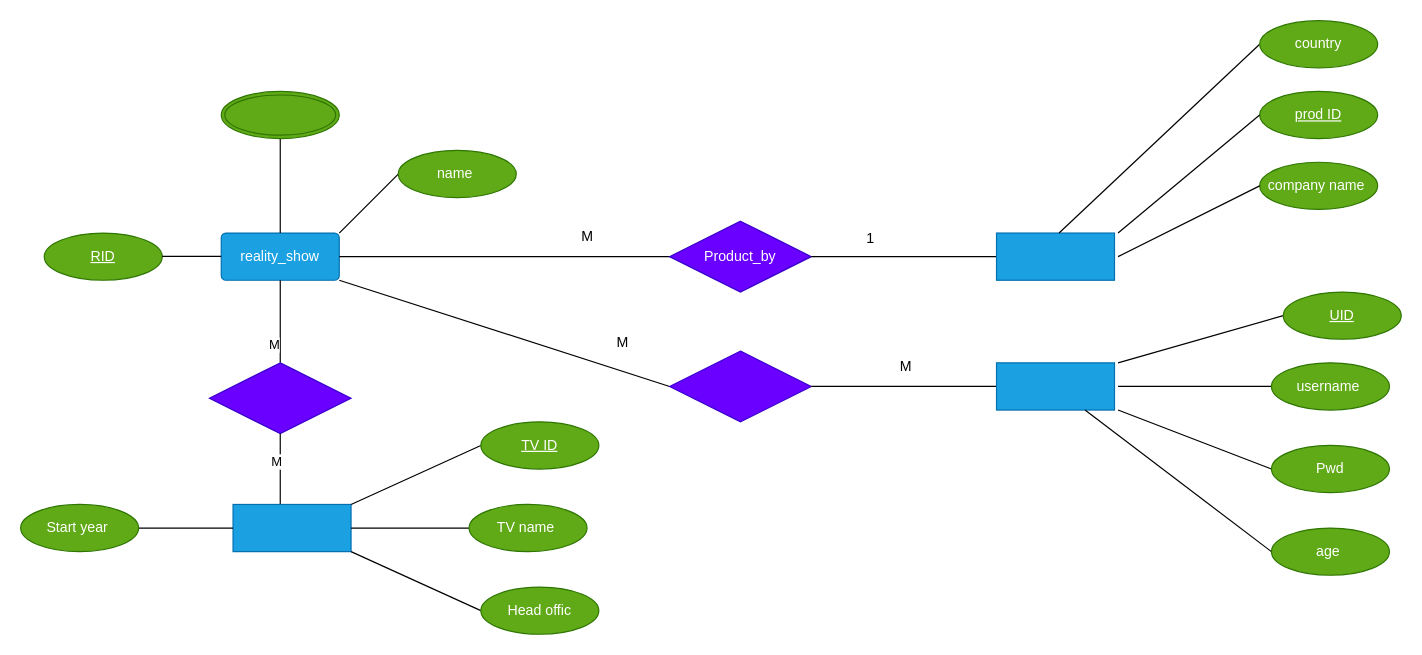
Some shapes in this 1422 by 655 pixel diagram are drawn without their labels. Each missing label, with the box of its shape:
participants: (220, 90, 339, 139)
Producer: (995, 232, 1115, 280)
rated_by: (668, 350, 811, 422)
realityshow _by: (208, 362, 351, 434)
TV_Channel: (232, 503, 351, 552)
User: (995, 362, 1115, 410)
